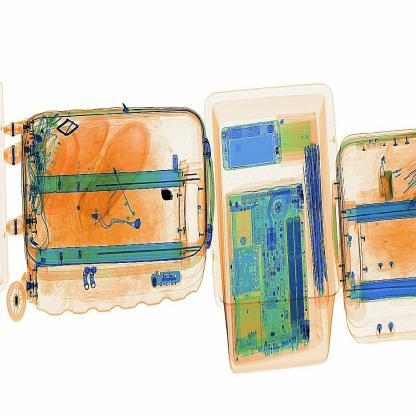scissors: (151, 184, 181, 210)
